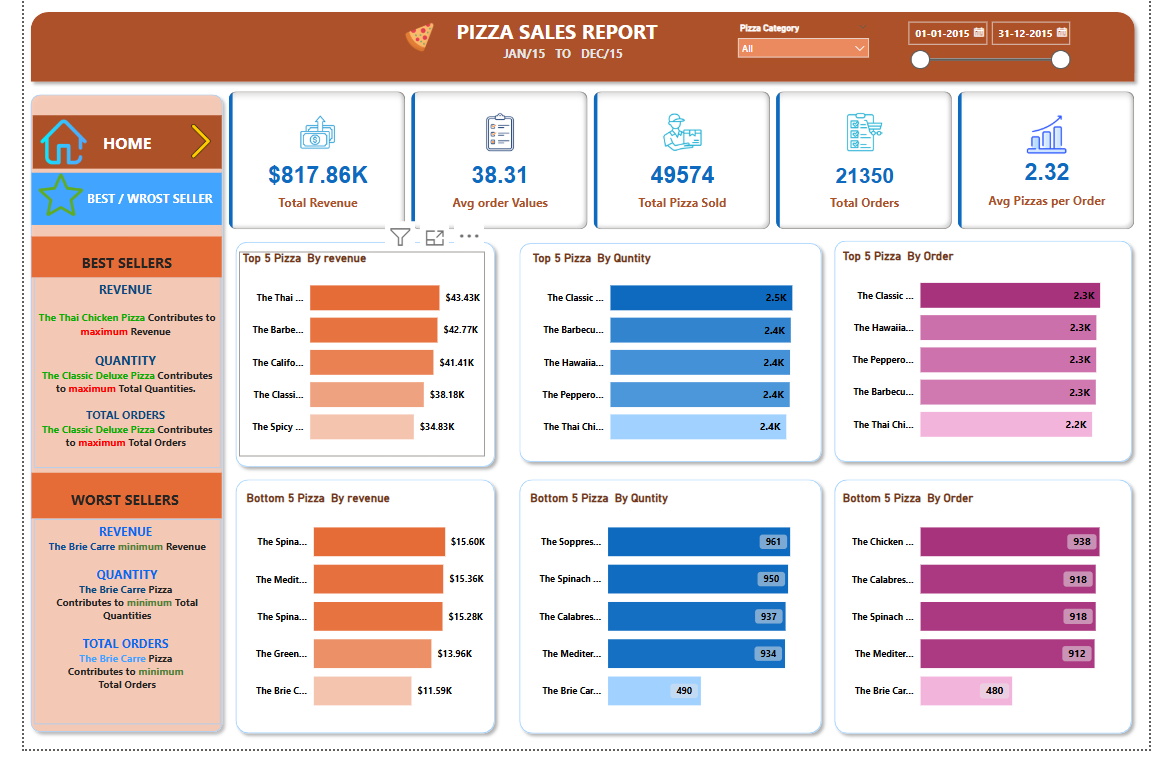

What the dashboard file says about the page in this screenshot:
{"tool":"powerbi","page":{"name":"Best / Worsh Seller","canvas":[1500,1000],"ordinal":1},"visuals":[{"type":"cardVisual","fields":{"Data":["public pizzasales.Total Revenue","public pizzasales.Avg order Values","public pizzasales.Total Pizza Sold","public pizzasales.Total Orders","public pizzasales.Avg Pizzas per Order"]},"box":[268.8,118.4,1217.3,194.4],"z":0},{"type":"shape","box":[10.1,8.5,1489.5,111.6],"z":1000},{"type":"textbox","box":[493.7,20.3,434.5,65.9],"z":2000},{"type":"textbox","box":[510.6,57.5,417.6,35.5],"z":3000},{"type":"image","box":[493.7,27.1,67.6,49],"z":4000},{"type":"shape","box":[273.9,314.5,363.5,317.9],"z":5000},{"type":"shape","box":[650.9,316.2,421,309.4],"z":6000},{"type":"shape","box":[0,118.4,273.9,869],"z":7000},{"type":"shape","box":[273.9,632.3,363.5,356.7],"z":8000},{"type":"shape","box":[650.9,632.3,421,356.7],"z":9000},{"type":"shape","box":[1071.9,632.3,414.2,356.7],"z":10000},{"type":"textbox","box":[10.1,632.3,253.6,60.9],"z":11000},{"type":"textbox","box":[13.5,370.3,248.5,255.3],"z":12000},{"type":"textbox","box":[10.1,316.2,253.6,54.1],"z":13000},{"type":"textbox","box":[13.5,693.2,248.5,273.9],"z":14000},{"type":"slicer","fields":{"Values":["public pizzasales.pizza_category"]},"box":[941.7,27.1,194.4,60.9],"z":15000},{"type":"slicer","fields":{"Values":["public pizzasales.order_date"]},"box":[1166.6,20.3,236.7,86.2],"z":16000},{"type":"shape","box":[1071.9,312.8,414.2,312.8],"z":17000},{"type":"barChart","title":"Top 5 Pizza  By revenue","fields":{"Category":["public pizzasales.pizza_name"],"Y":["public pizzasales.Total Revenue"]},"box":[287.4,336.5,328,273.9],"z":18000},{"type":"barChart","title":"Bottom 5 Pizza  By revenue","fields":{"Category":["public pizzasales.pizza_name"],"Y":["public pizzasales.Total Revenue"]},"box":[292.5,656,328,311.1],"z":19000},{"type":"barChart","title":"Top 5 Pizza  By Quntity","fields":{"Category":["public pizzasales.pizza_name"],"Y":["public pizzasales.Total Pizza Sold"]},"box":[672.9,336.5,383.8,273.9],"z":20000},{"type":"barChart","title":"Bottom 5 Pizza  By Quntity","fields":{"Category":["public pizzasales.pizza_name"],"Y":["public pizzasales.Total Pizza Sold"]},"box":[669.5,656,383.8,311.1],"z":21000},{"type":"barChart","title":"Top 5 Pizza  By Order","fields":{"Category":["public pizzasales.pizza_name"],"Y":["public pizzasales.Total Orders"]},"box":[1087.1,333.1,382.1,273.9],"z":22000},{"type":"barChart","title":"Bottom 5 Pizza  By Order","fields":{"Category":["public pizzasales.pizza_name"],"Y":["public pizzasales.Total Orders"]},"box":[1087.1,656,382.1,311.1],"z":22001},{"type":"textbox","box":[11.8,155.5,251.9,71],"z":22002},{"type":"image","box":[208,148.8,55.8,82.8],"z":22003},{"type":"image","box":[11.8,155.5,82.8,71],"z":22004},{"type":"textbox","box":[10.1,231.6,253.6,69.3],"z":22005},{"type":"image","box":[10.1,226.6,77.8,69.3],"z":22006}]}

Visuals, with their boxes in screenshot pixels (x1, y1, x2, y2), scaled from the page's 1500x1000 canvas onto the 1161x770 screenshot:
cardVisual - public pizzasales.Total Revenue x public pizzasales.Avg order Values: x1=208 y1=91 x2=1150 y2=241
shape: x1=8 y1=7 x2=1160 y2=92
textbox: x1=382 y1=16 x2=718 y2=66
textbox: x1=395 y1=44 x2=718 y2=72
image: x1=382 y1=21 x2=434 y2=59
shape: x1=212 y1=242 x2=493 y2=487
shape: x1=504 y1=243 x2=830 y2=482
shape: x1=0 y1=91 x2=212 y2=760
shape: x1=212 y1=487 x2=493 y2=762
shape: x1=504 y1=487 x2=830 y2=762
shape: x1=830 y1=487 x2=1150 y2=762
textbox: x1=8 y1=487 x2=204 y2=534
textbox: x1=10 y1=285 x2=203 y2=482
textbox: x1=8 y1=243 x2=204 y2=285
textbox: x1=10 y1=534 x2=203 y2=745
slicer - public pizzasales.pizza_category: x1=729 y1=21 x2=879 y2=68
slicer - public pizzasales.order_date: x1=903 y1=16 x2=1086 y2=82
shape: x1=830 y1=241 x2=1150 y2=482
"Top 5 Pizza  By revenue" barChart: x1=222 y1=259 x2=476 y2=470
"Bottom 5 Pizza  By revenue" barChart: x1=226 y1=505 x2=480 y2=745
"Top 5 Pizza  By Quntity" barChart: x1=521 y1=259 x2=818 y2=470
"Bottom 5 Pizza  By Quntity" barChart: x1=518 y1=505 x2=815 y2=745
"Top 5 Pizza  By Order" barChart: x1=841 y1=256 x2=1137 y2=467
"Bottom 5 Pizza  By Order" barChart: x1=841 y1=505 x2=1137 y2=745
textbox: x1=9 y1=120 x2=204 y2=174
image: x1=161 y1=115 x2=204 y2=178
image: x1=9 y1=120 x2=73 y2=174
textbox: x1=8 y1=178 x2=204 y2=232
image: x1=8 y1=174 x2=68 y2=228
